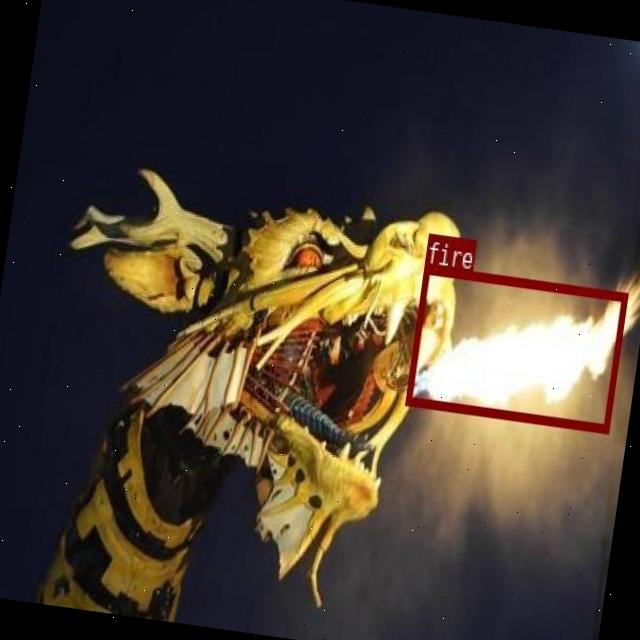fire: (404, 263, 628, 432)
